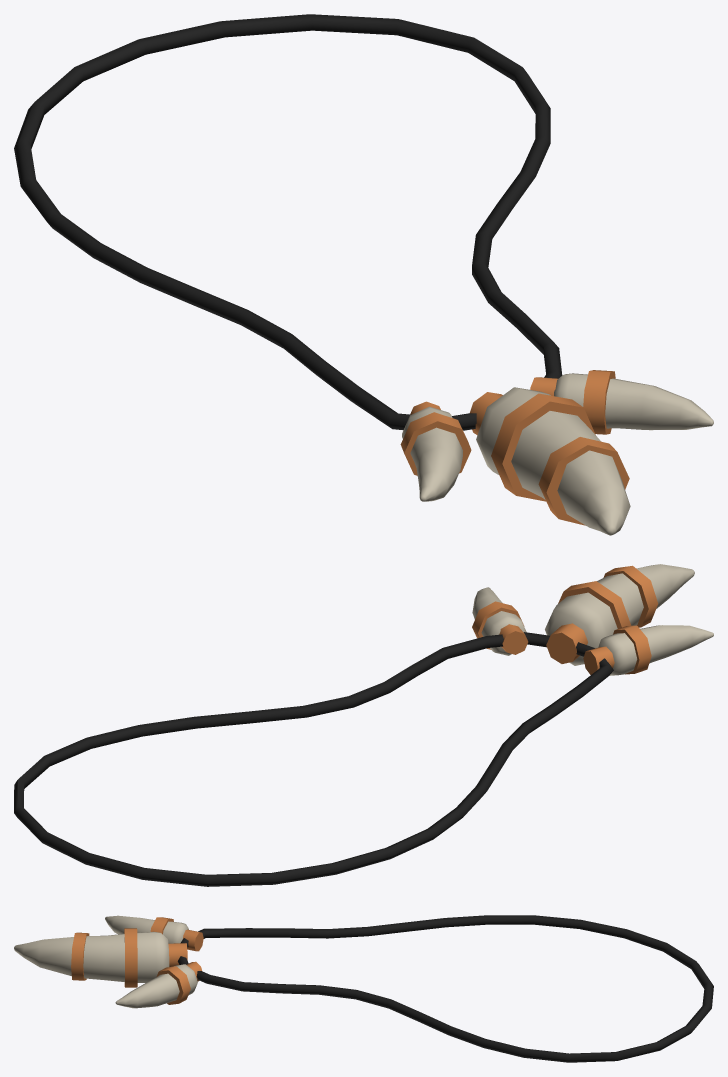
Rendered from Necklace_02.fbx.
3 views of the same model, one above another, from view 1: azimuth 30°, elevation 25°; view 2: azimuth 150°, elevation 25°; view 3: azimuth 270°, elevation 25° (orthographic). The views are drawn at different scales.
Visible parts, largest first — view 1: Necklace_02, Necklace_02_Tooth_Big; view 2: Necklace_02, Necklace_02_Tooth_Big; view 3: Necklace_02, Necklace_02_Tooth_Big.
Boxes of the visible parts, box(x1,y1,x2,y2) form: Necklace_02: box(14, 14, 713, 501); Necklace_02_Tooth_Big: box(470, 387, 630, 535); Necklace_02: box(14, 587, 713, 886); Necklace_02_Tooth_Big: box(545, 564, 694, 665); Necklace_02: box(105, 915, 713, 1062); Necklace_02_Tooth_Big: box(14, 928, 187, 987).
Size of the model in its own units: 0.1036 by 0.0194 by 0.2152.
